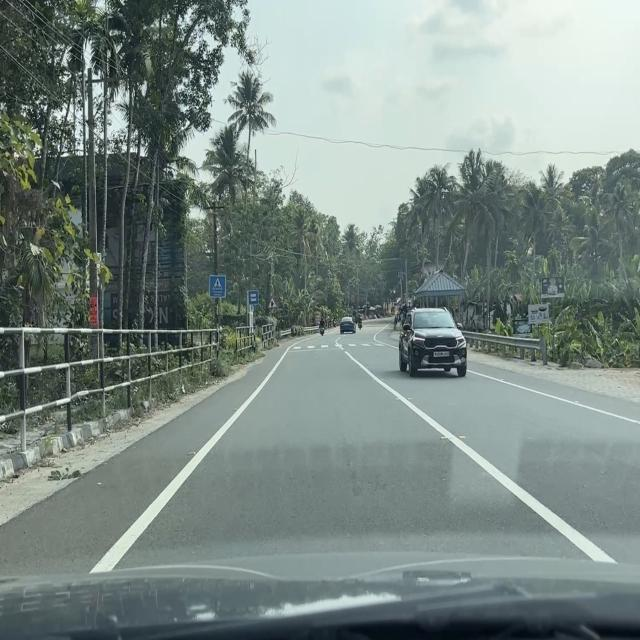INFORMATION: (248, 289, 259, 305)
PEDESTRIAN_CROSSING: (209, 275, 226, 299)
SIDE_ROAD_RIGHT: (268, 296, 278, 309)
